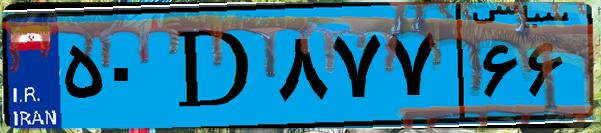0: (110, 28, 158, 98)
5: (57, 26, 110, 100)
6: (475, 38, 525, 113), (525, 38, 570, 115)
7: (385, 28, 445, 110), (330, 28, 385, 110)
8: (270, 28, 330, 110)
D: (158, 12, 270, 120)
